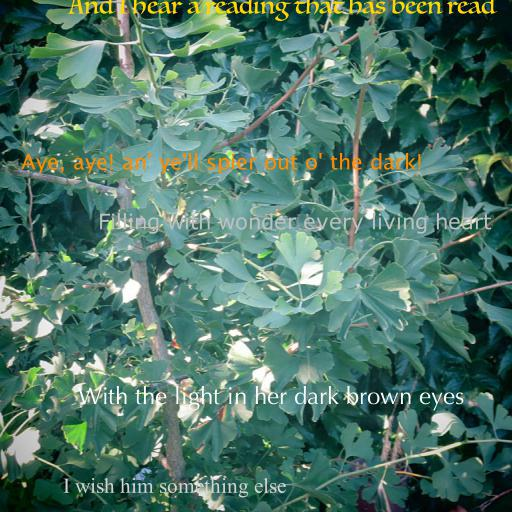Lucida Grande: (21, 153, 423, 174)
Luminari: (69, 0, 495, 22)
Optima: (78, 385, 464, 411)
Times New Roman: (62, 477, 286, 498)
Verdana: (97, 213, 491, 234)
